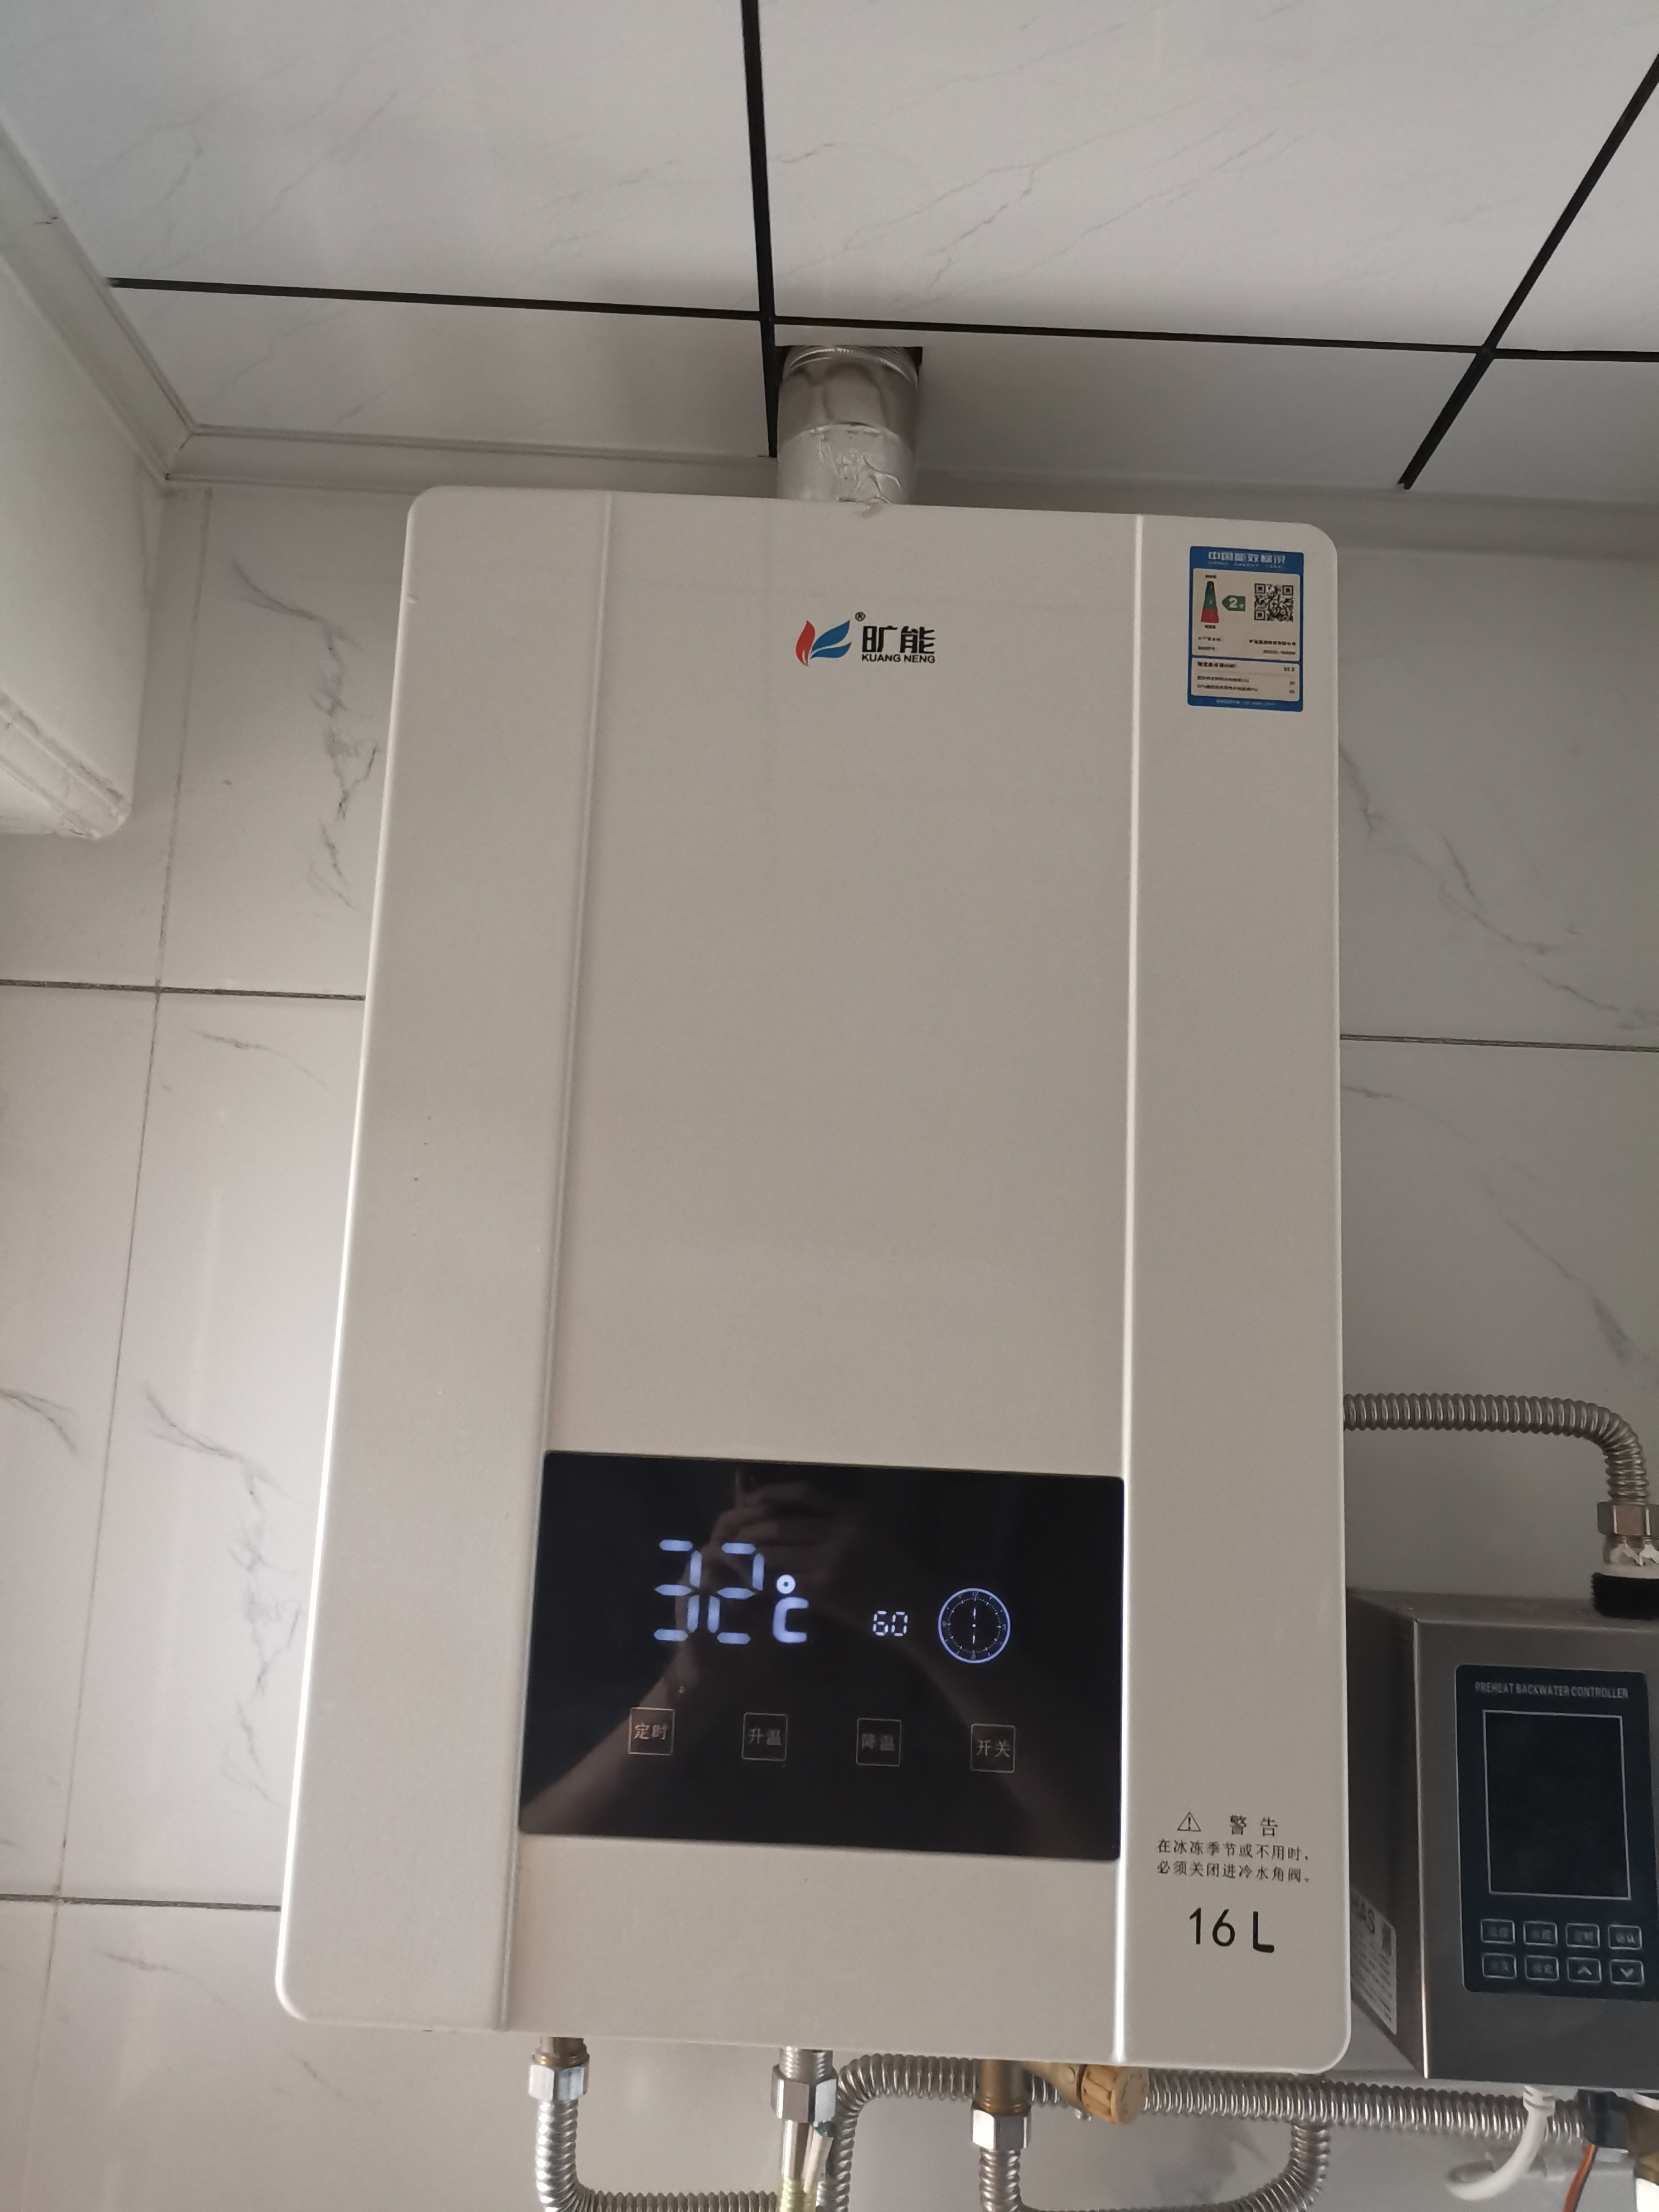loudou: (781, 592, 971, 690)
